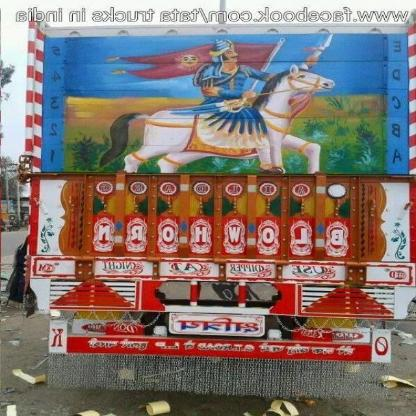truck: (17, 25, 405, 369)
